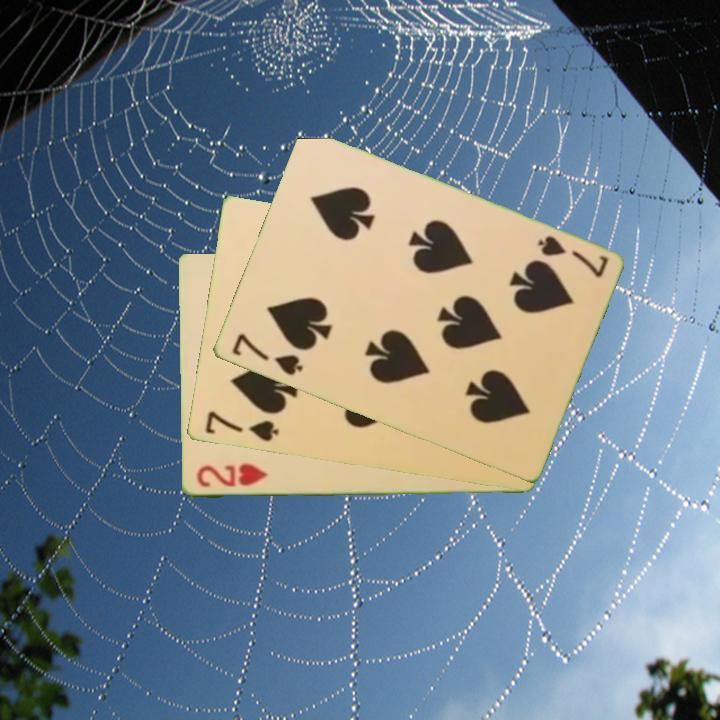2h: (193, 461, 271, 491)
7s: (228, 330, 306, 379), (533, 232, 611, 281), (201, 407, 281, 445)
